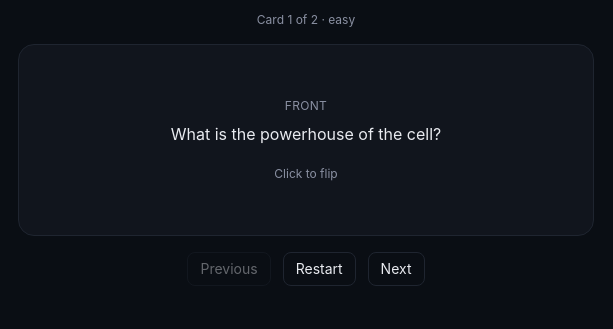
Scenario: flipping a flashcard reveals the back
expect the text "What is the powerhouse of the cell?" is shown: met, box [171,122,441,146]
Click the button "Front What is the powerhouse of the cell? Click to flip": click(306, 140) [18,44,594,236]
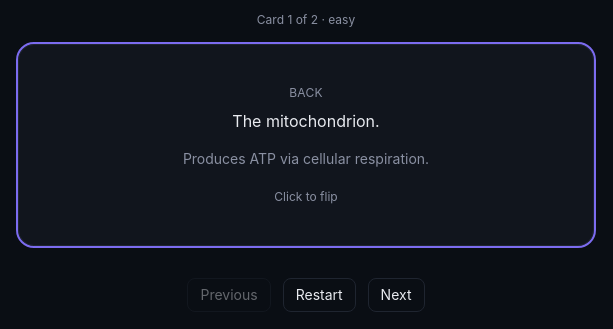
expect the text "The mitochondrion." is shown: met, box [232,109,380,133]
